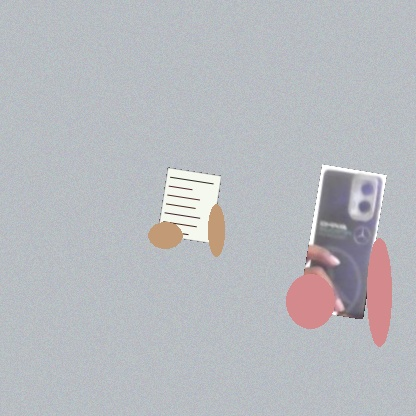cell_phone: (298, 164, 387, 319)
cheat_chit: (157, 167, 221, 243)
